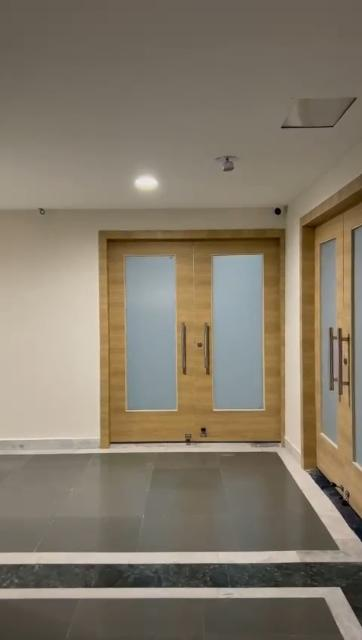door: (95, 234, 287, 450), (292, 214, 362, 492)
floor: (0, 454, 358, 640)
wall: (0, 203, 92, 433)
